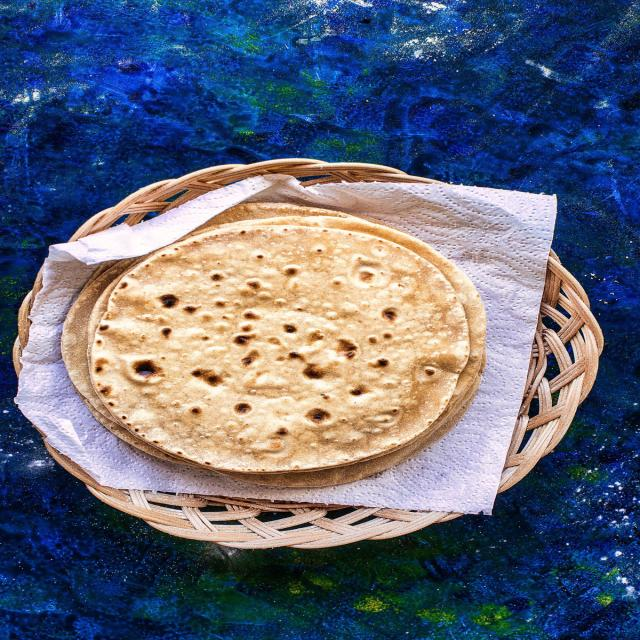ROTI: (65, 227, 482, 480)
